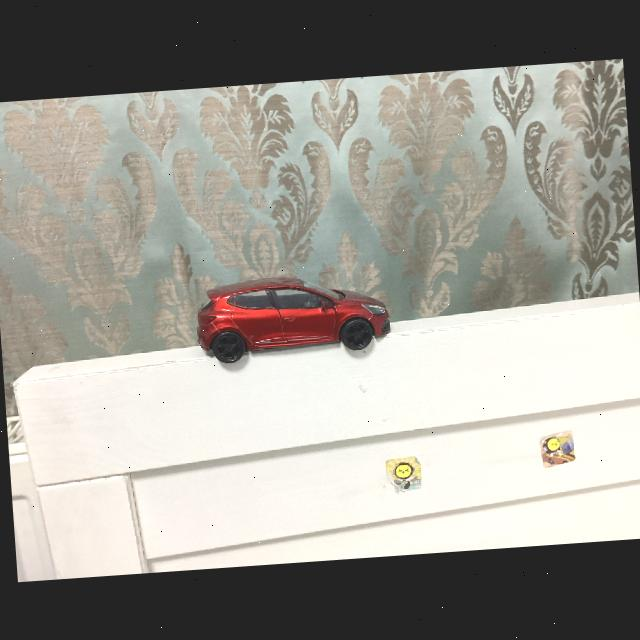Dogru_Jant: (342, 320, 372, 349), (214, 333, 243, 360)
